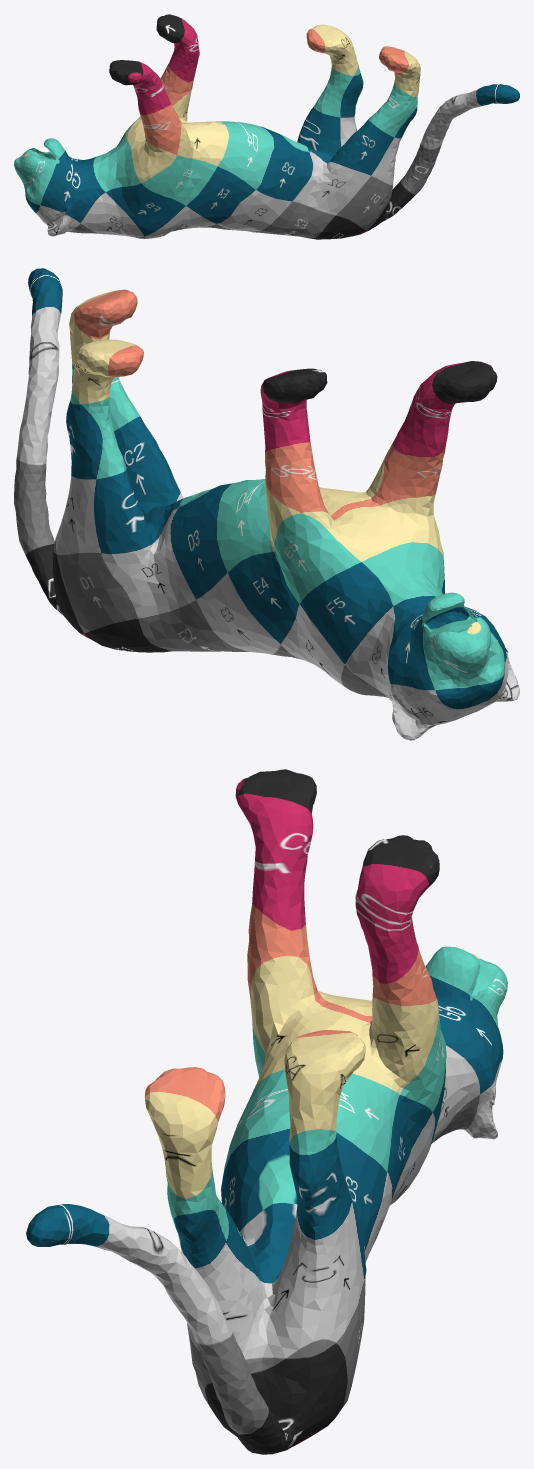
The model's file is horse_08-cougar_01.obj.
3 renders of one model, top to bottom at view 1: azimuth 30°, elevation 25°; view 2: azimuth 150°, elevation 25°; view 3: azimuth 270°, elevation 25°, orthographic. The views are drawn at different scales.
Parts seen in each view (by area): view 1: horse_08-cougar_01_export; view 2: horse_08-cougar_01_export; view 3: horse_08-cougar_01_export.
Part boxes in pixels (left/top/right/bottom): horse_08-cougar_01_export: left=14, top=14, right=519, bottom=239; horse_08-cougar_01_export: left=14, top=268, right=519, bottom=740; horse_08-cougar_01_export: left=26, top=769, right=507, bottom=1454.
Size of the model in its own units: 1.06 by 0.5852 by 0.5632.
